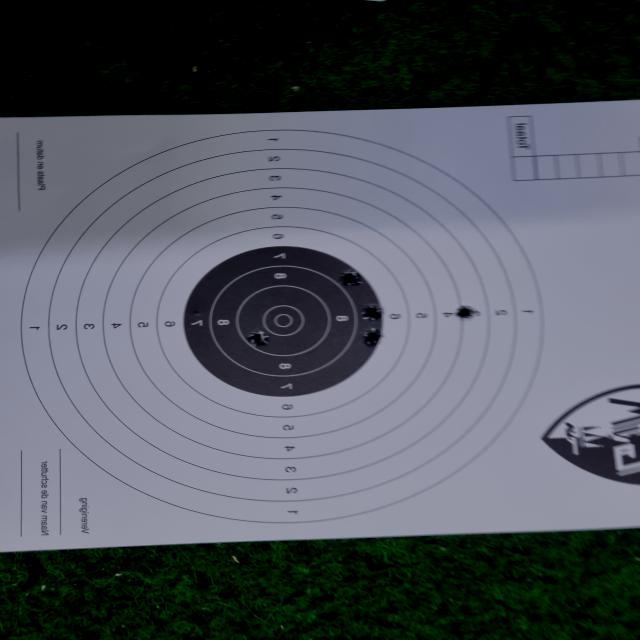4: (455, 305, 480, 319)
7: (341, 270, 364, 286), (363, 328, 381, 346), (362, 306, 382, 321)
9: (247, 330, 268, 346)
Target: (19, 130, 546, 524)
black_contour: (183, 246, 384, 397)
